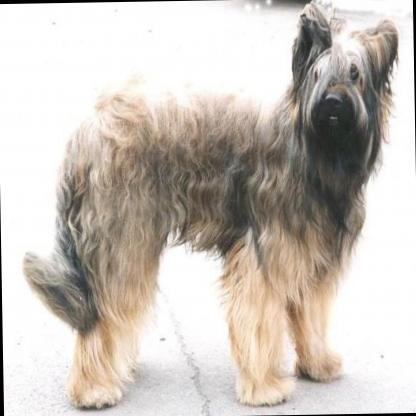briard: (15, 0, 405, 413)
